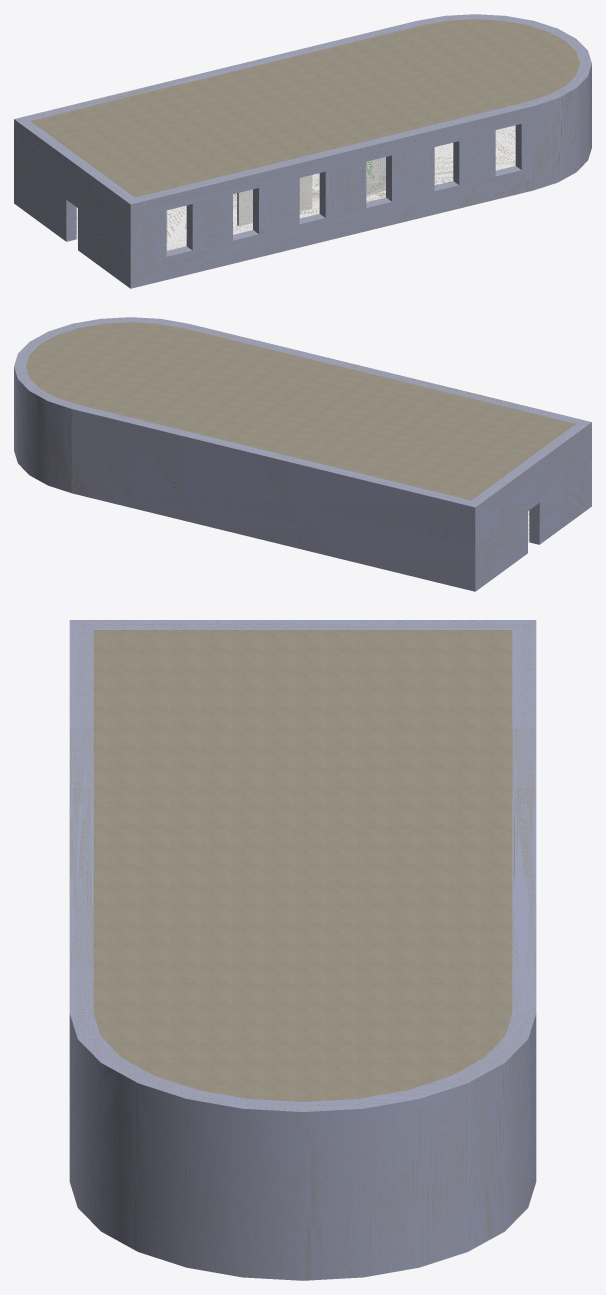
Rendered from PlaceringHus.fbx.
3 views of the same model, one above another, from view 1: azimuth 30°, elevation 25°; view 2: azimuth 150°, elevation 25°; view 3: azimuth 270°, elevation 25° (orthographic). The views are drawn at different scales.
Visible parts, largest first — view 1: Model; view 2: Model; view 3: Model.
Boxes of the visible parts, x1=… form: Model: x1=14, y1=14, x2=591, y2=288; Model: x1=14, y1=317, x2=591, y2=591; Model: x1=69, y1=620, x2=536, y2=1280.
Size of the model in its own units: 25.01 by 4 by 10.02.
